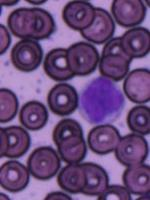M: (78, 75, 124, 125)
